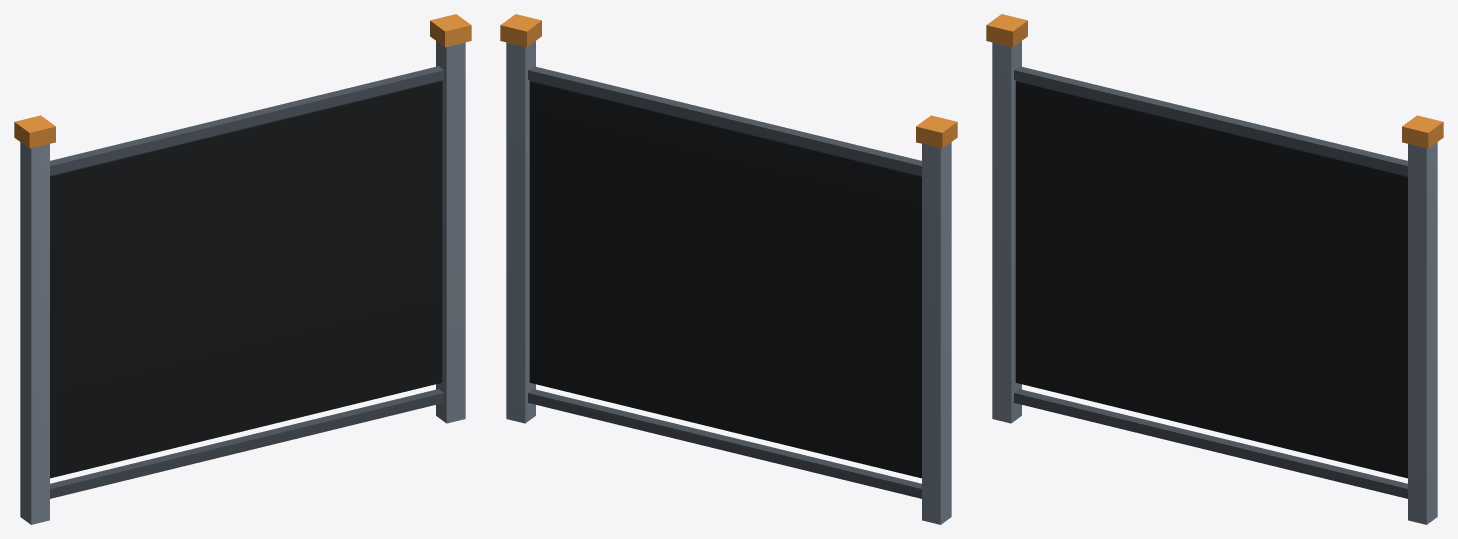
The model's file is obj_valla.glb.
The picture shows the model from 3 angles, left to right: view 1: azimuth 30°, elevation 25°; view 2: azimuth 150°, elevation 25°; view 3: azimuth 330°, elevation 25°; orthographic projection.
Parts seen in each view (by area): view 1: propforge-cuartos-valla; view 2: propforge-cuartos-valla; view 3: propforge-cuartos-valla.
Boxes of the visible parts, left/top/right/bottom form: propforge-cuartos-valla: left=14, top=14, right=471, bottom=524; propforge-cuartos-valla: left=500, top=14, right=957, bottom=524; propforge-cuartos-valla: left=986, top=14, right=1443, bottom=524.
Bounding box in the file's own units: 1.05 × 0.8982 × 0.063.
